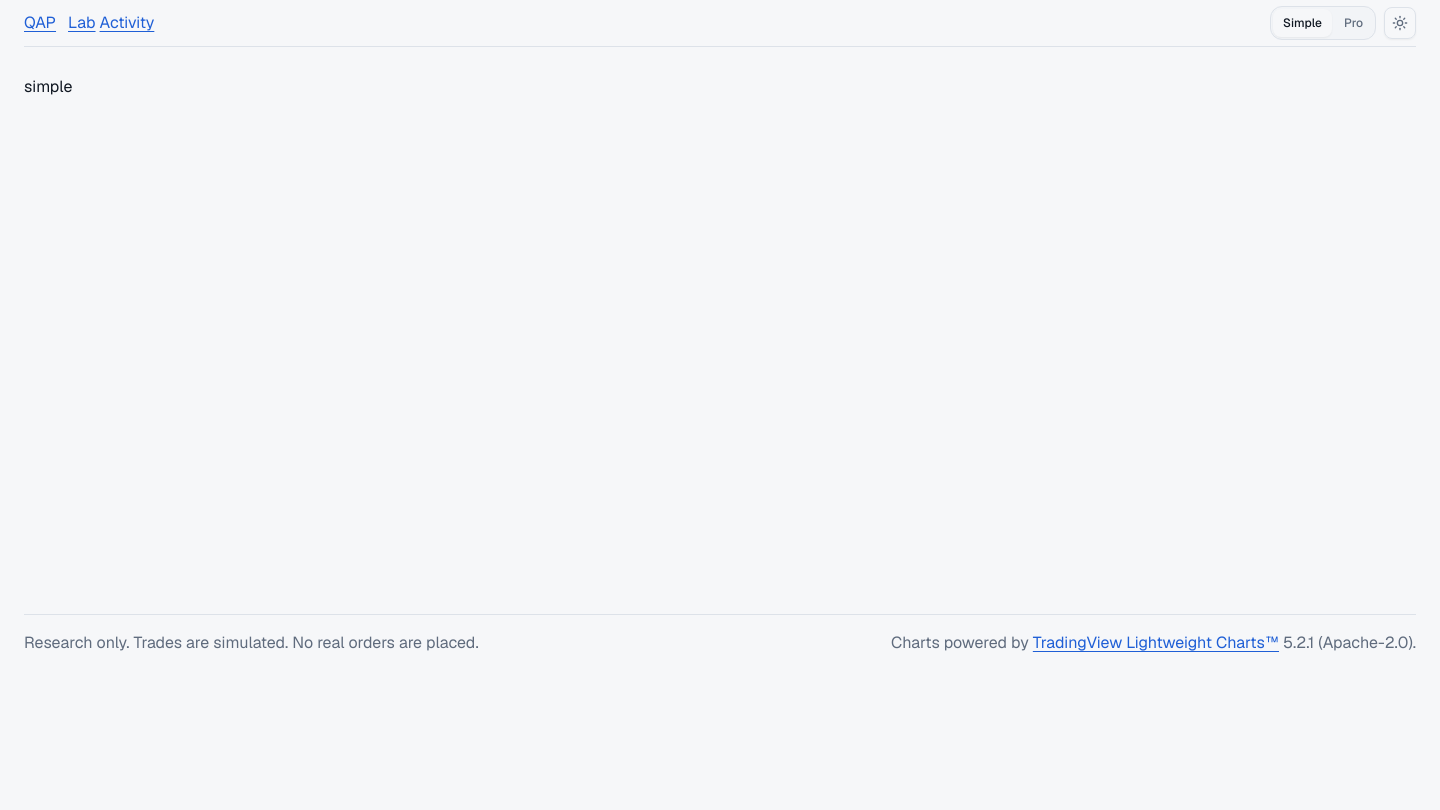
keeps the header switch and dashboard mode synchronized
Step 1. Click the button "Pro" → click(1353, 23), box [1334,9,1373,37]
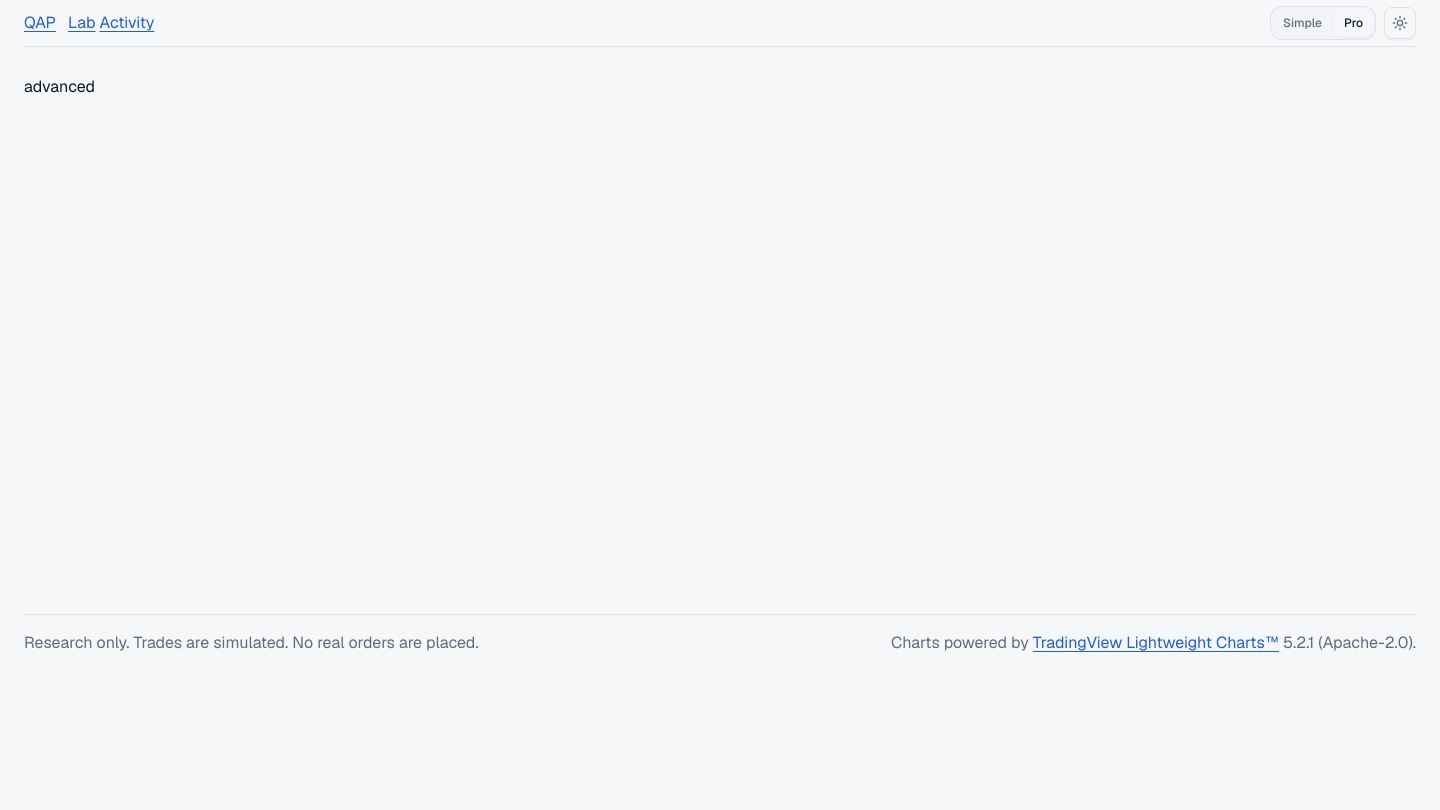
Now the text named "Dashboard mode" reads "advanced", box [24,76,95,97]
Step 2. Click the button "Simple" → click(1302, 23), box [1273,9,1332,37]
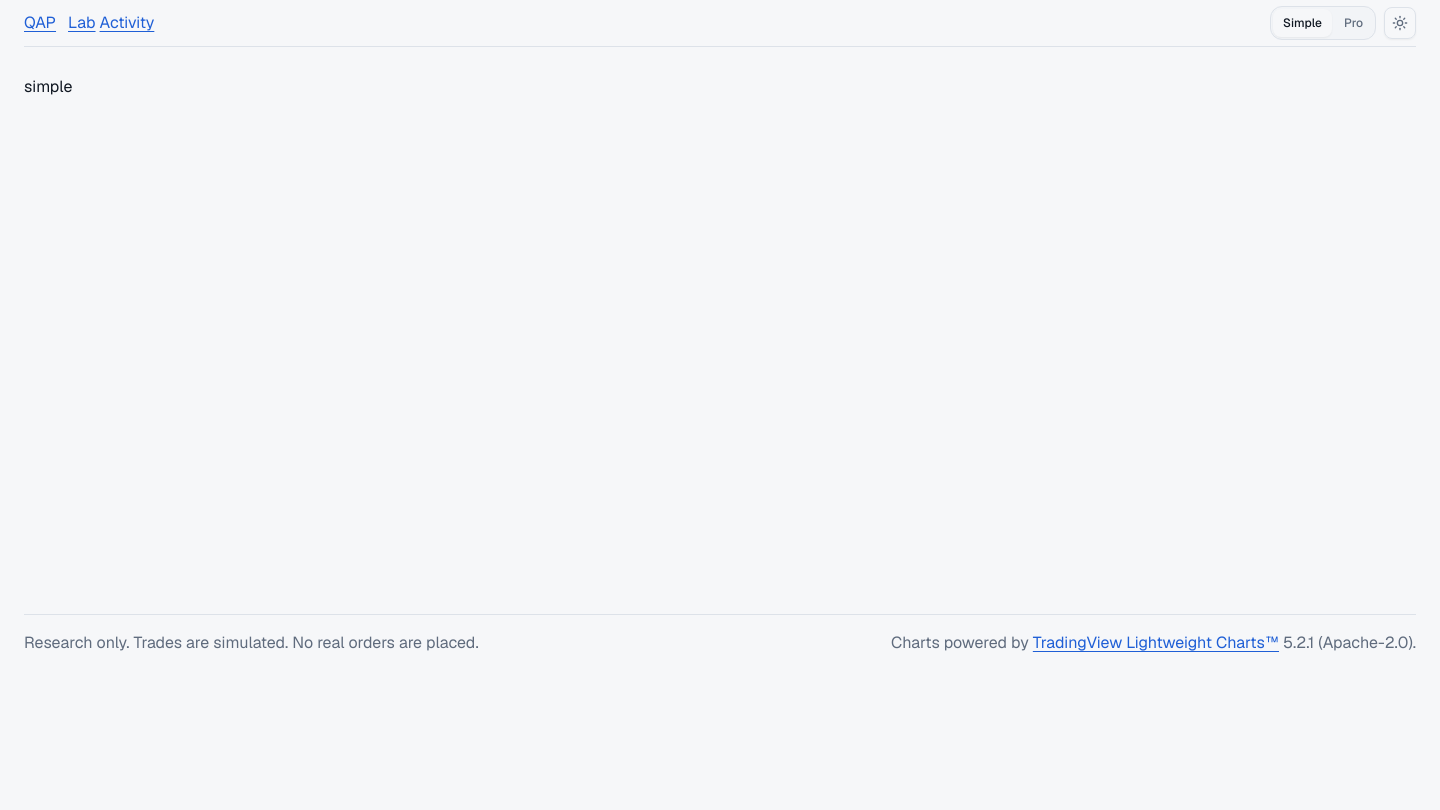
Expected: the number of elements named "View mode" is 1, [1270,6,1376,40]
Now the text named "Dashboard mode" reads "simple", box [24,76,72,97]
